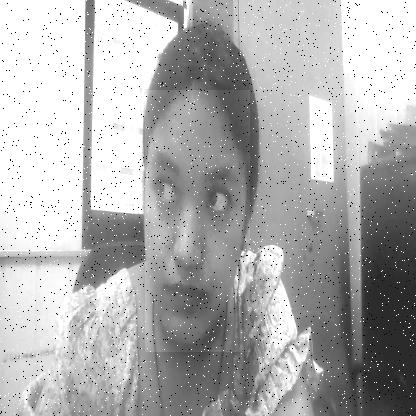Normal: (145, 90, 250, 352)
